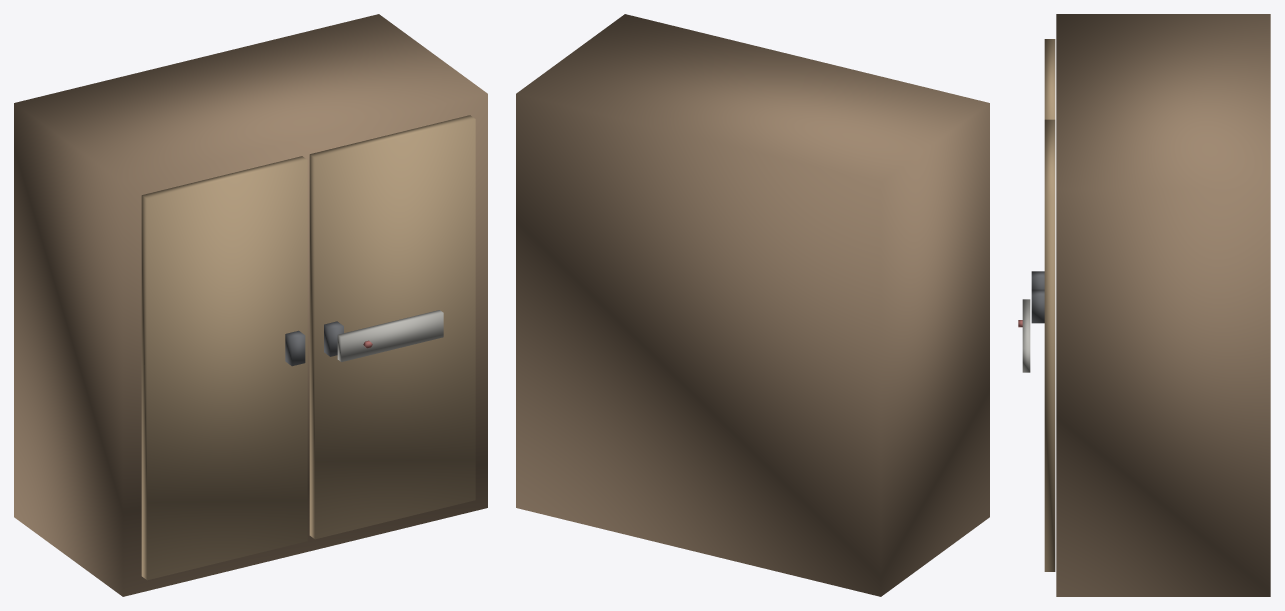
File: photo_chemical_cabinet__squat.glb
3 renders of one model, left to right at view 1: azimuth 30°, elevation 25°; view 2: azimuth 150°, elevation 25°; view 3: azimuth 270°, elevation 25°, orthographic.
Visible parts, largest first — view 1: world; view 2: world; view 3: world.
Boxes of the visible parts, x1=… form: world: x1=14, y1=14, x2=487, y2=596; world: x1=516, y1=14, x2=989, y2=596; world: x1=1018, y1=14, x2=1270, y2=596.
Size of the model in its own units: 1.04 by 1.13 by 0.6356.
